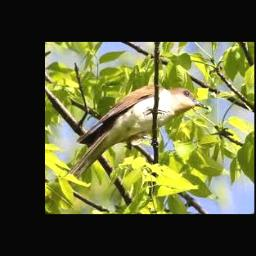Cuckoo: (63, 86, 209, 190)
